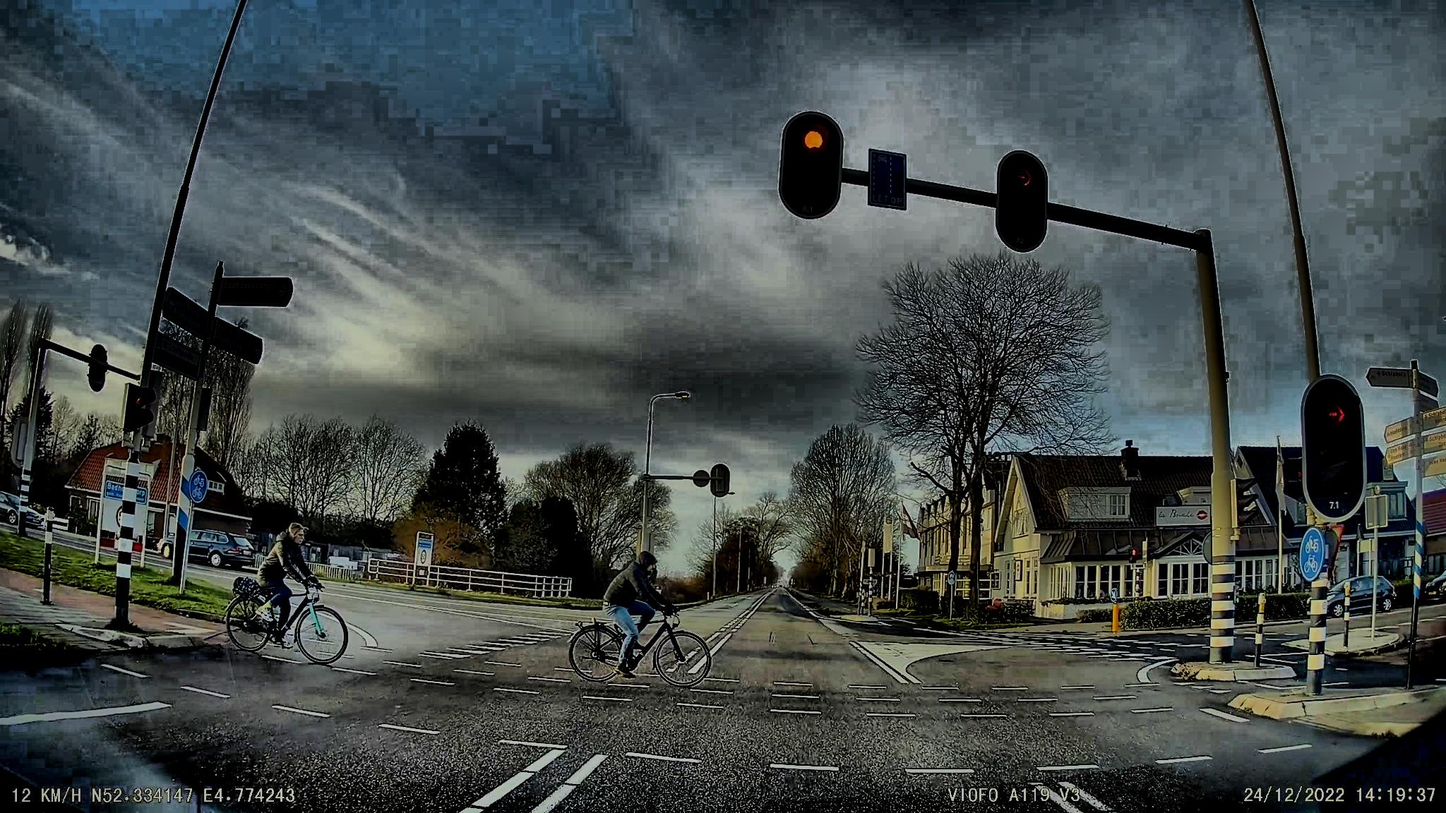Roads: (0, 595, 1392, 813)
